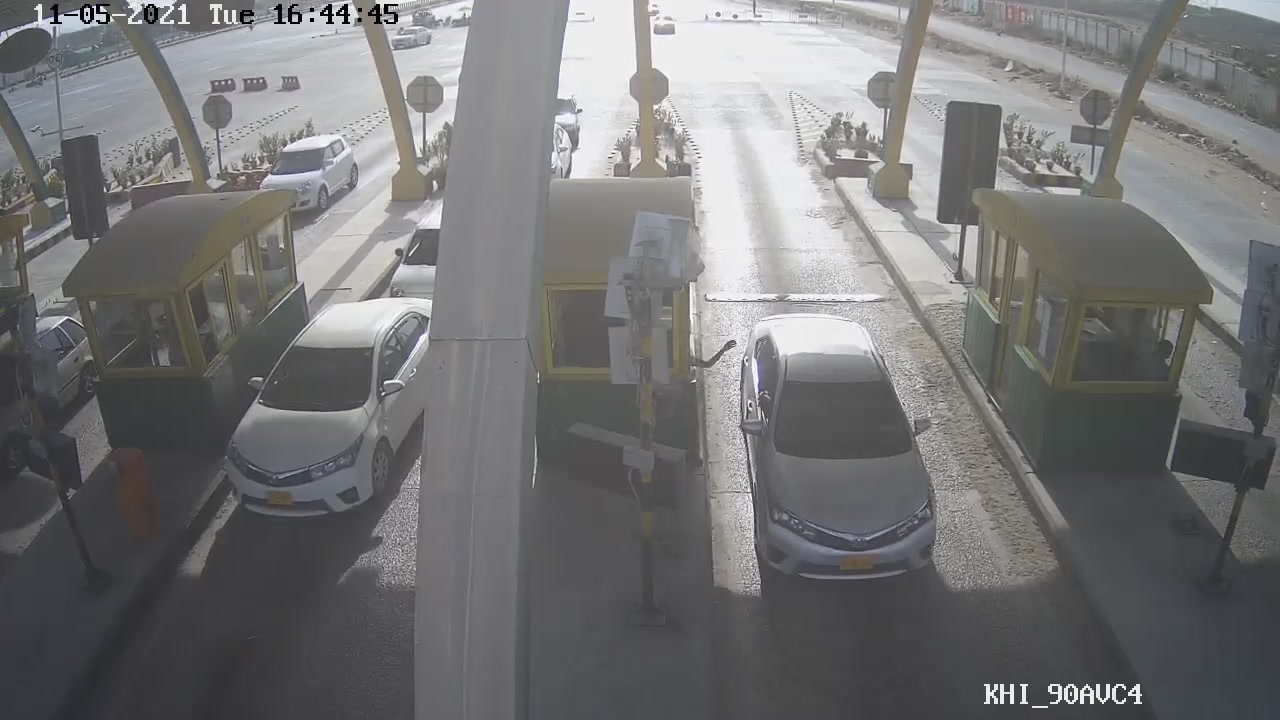F1: (721, 303, 948, 589)
